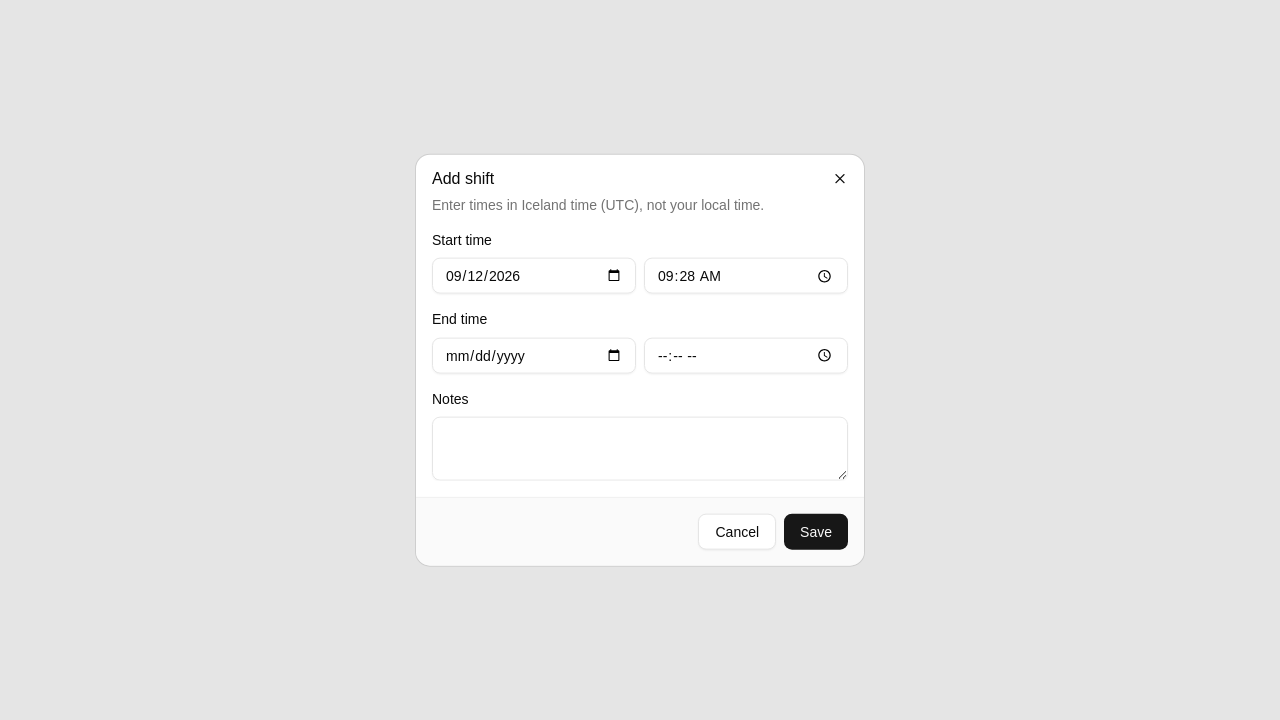
Test: ShiftForm › still refuses a start the user has cleared
Clear the date field named "Start time — date": (534, 276) top-left (432, 258), bottom-right (636, 294)
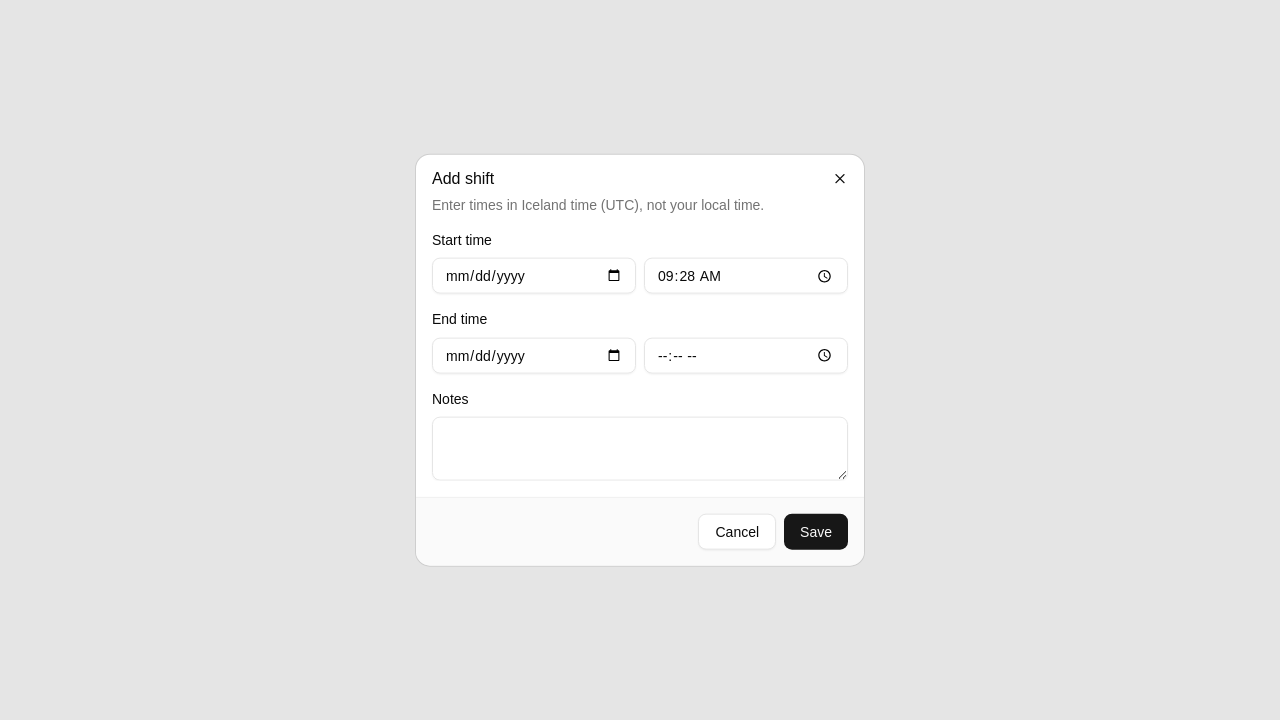
Clear the time field named "Start time — time": (746, 276) top-left (644, 258), bottom-right (848, 294)
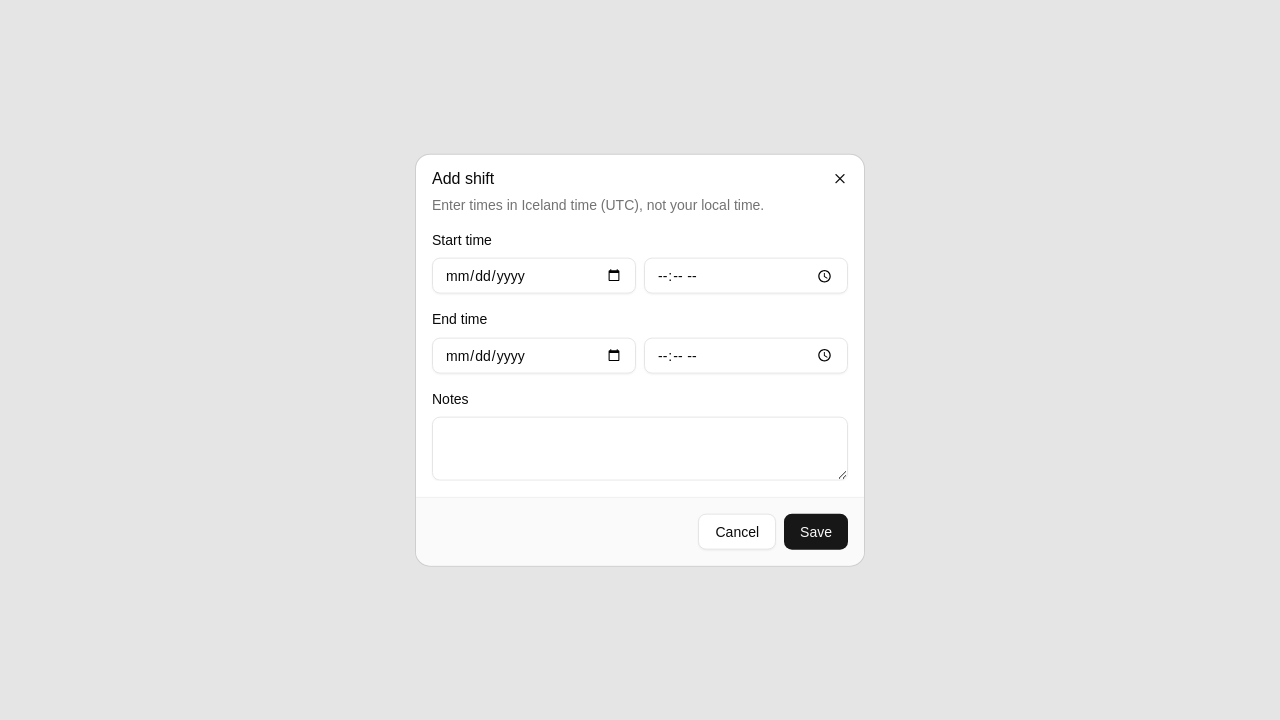
Click the button "Save": (816, 531) top-left (784, 513), bottom-right (848, 549)
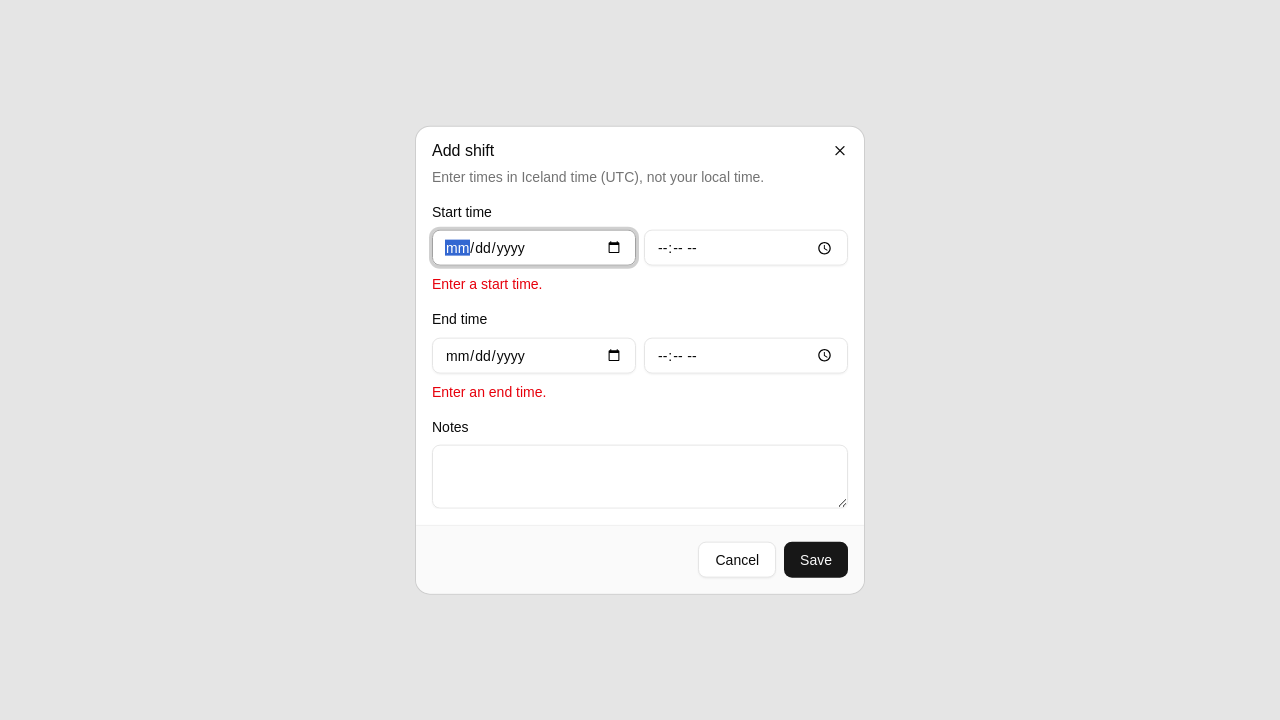
Expected: the text "Enter a start time." is shown, top-left (432, 276), bottom-right (542, 292)
